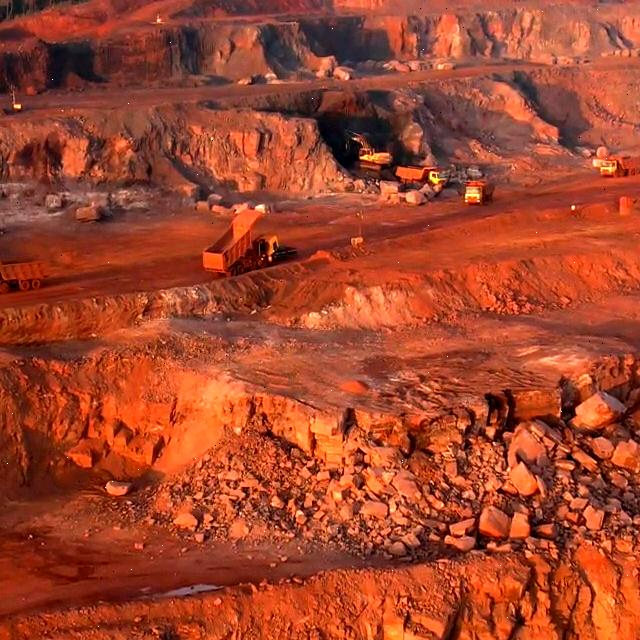Dumper truck: (204, 229, 271, 271), (0, 258, 36, 291), (600, 157, 634, 177), (464, 181, 488, 205)
Excavator: (354, 147, 394, 173)
